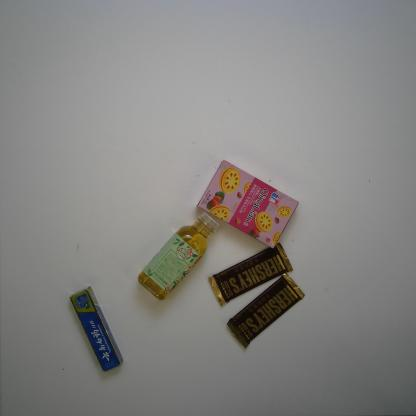Chocolate: (226, 272, 305, 350), (206, 241, 295, 307)
Dessert: (196, 158, 300, 248)
Drink: (137, 211, 221, 302)
Personal Hygiene: (68, 286, 124, 374)
